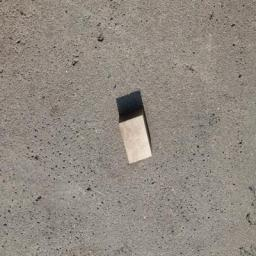FOD: (106, 92, 169, 165)
